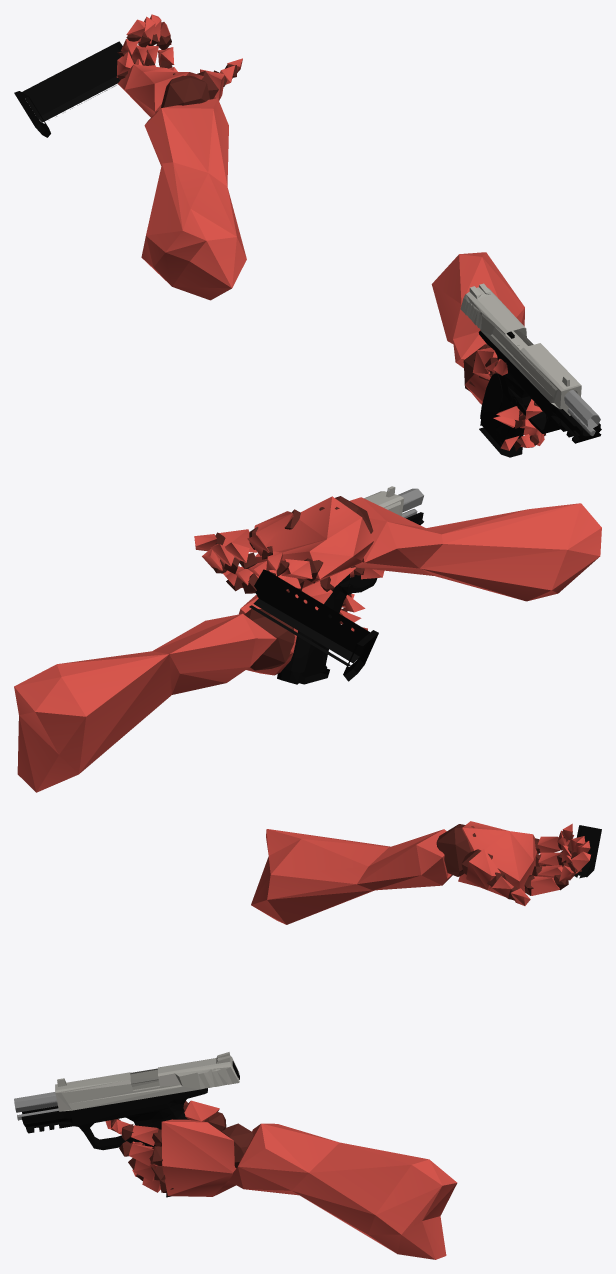
Rendered from M&P9reloadNormal1lowP_000116.obj.
3 renders of one model, top to bottom at view 1: azimuth 30°, elevation 25°; view 2: azimuth 150°, elevation 25°; view 3: azimuth 270°, elevation 25°, orthographic. The views are drawn at different scales.
Visible parts, largest first — view 1: Beta_Surface.001_Beta_Surface.002, triger_平面.001, slide_平面.002, magazine.002_平面.005, Beta_Joints.001_Beta_Joints.002; view 2: Beta_Surface.001_Beta_Surface.002, magazine.002_平面.005, Beta_Joints.001_Beta_Joints.002, triger_平面.001, slide_平面.002; view 3: Beta_Surface.001_Beta_Surface.002, slide_平面.002, triger_平面.001, Beta_Joints.001_Beta_Joints.002, magazine.002_平面.005.
Part boxes in pixels (x1,y1,x2,y2): Beta_Surface.001_Beta_Surface.002: [116, 14, 544, 450]; triger_平面.001: [478, 330, 601, 449]; slide_平面.002: [460, 283, 581, 415]; magazine.002_平面.005: [14, 41, 122, 137]; Beta_Joints.001_Beta_Joints.002: [117, 34, 545, 451]; Beta_Surface.001_Beta_Surface.002: [14, 496, 601, 792]; magazine.002_平面.005: [249, 569, 378, 681]; Beta_Joints.001_Beta_Joints.002: [212, 496, 373, 670]; triger_平面.001: [277, 488, 423, 684]; slide_平面.002: [364, 486, 404, 516]; Beta_Surface.001_Beta_Surface.002: [105, 821, 590, 1259]; slide_平面.002: [55, 1052, 239, 1111]; triger_平面.001: [14, 1088, 207, 1150]; Beta_Joints.001_Beta_Joints.002: [110, 824, 581, 1192]; magazine.002_平面.005: [574, 825, 601, 878].
Bounding box in the file's own units: 83.79 × 61.59 × 104.
